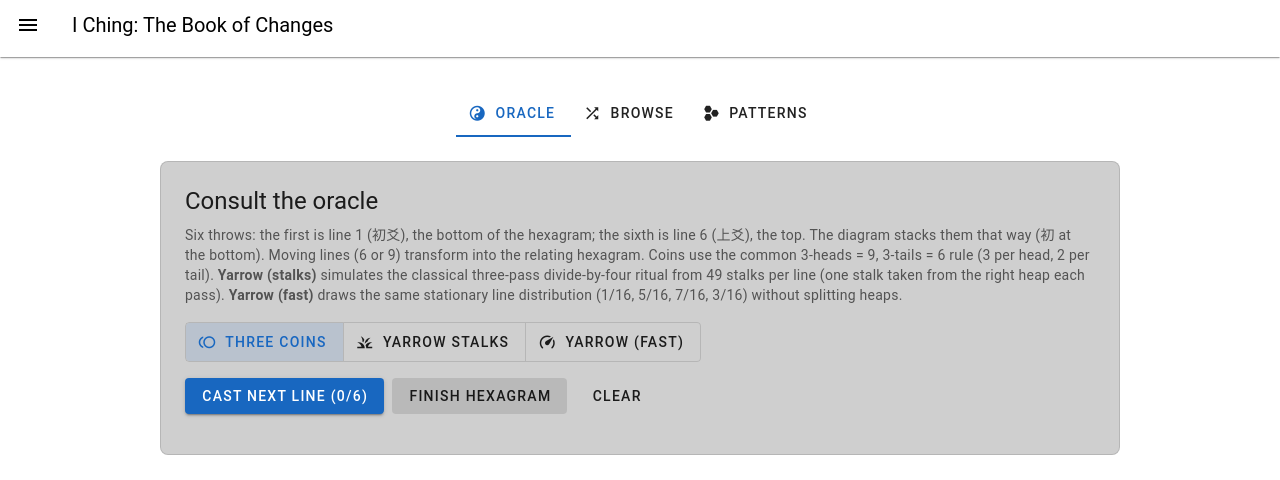
Test: App.vue › renders a hexagram block after mount
This screenshot has width=1280, height=480.
Click the tab "Browse". click: click(631, 113)
box: [571,89,690,137]
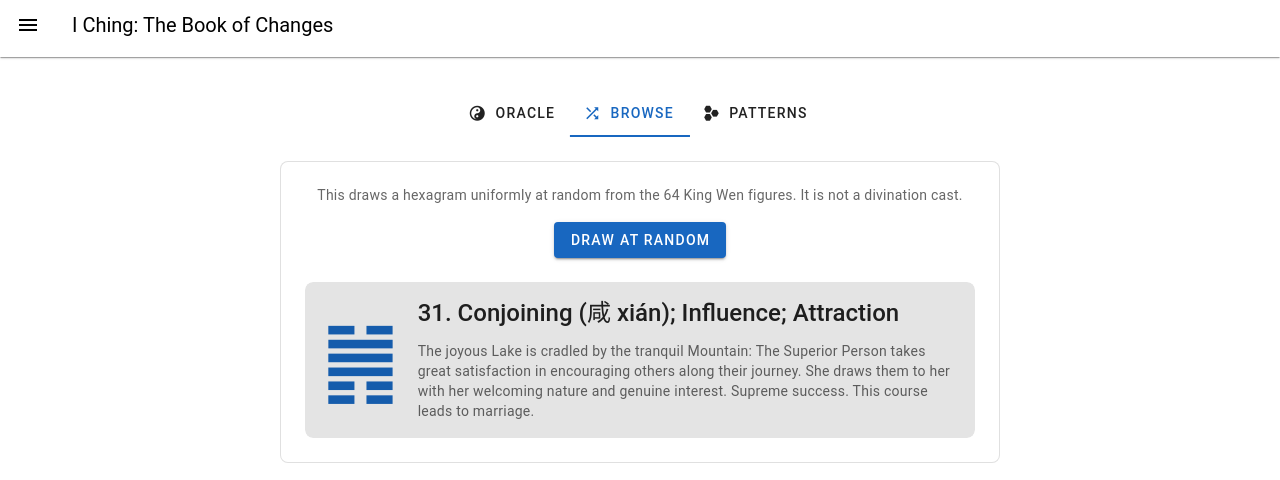
Expected: the text "䷞" is shown, [321,316,402,404]
